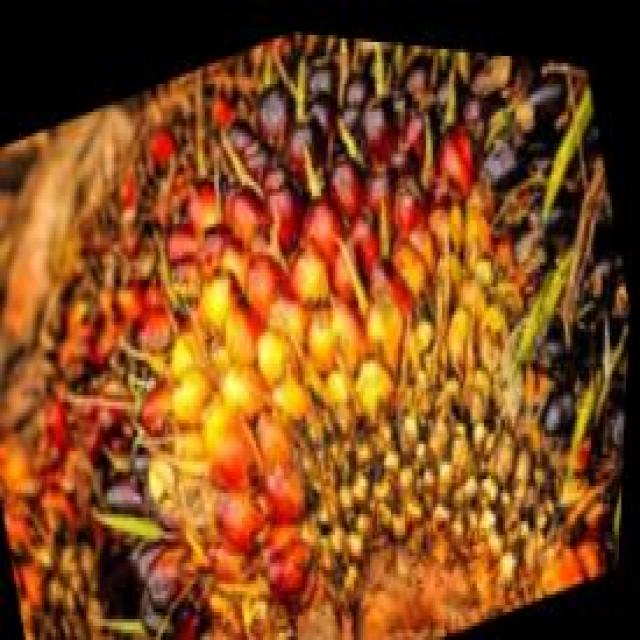Ripefruit: (9, 3, 640, 640)
